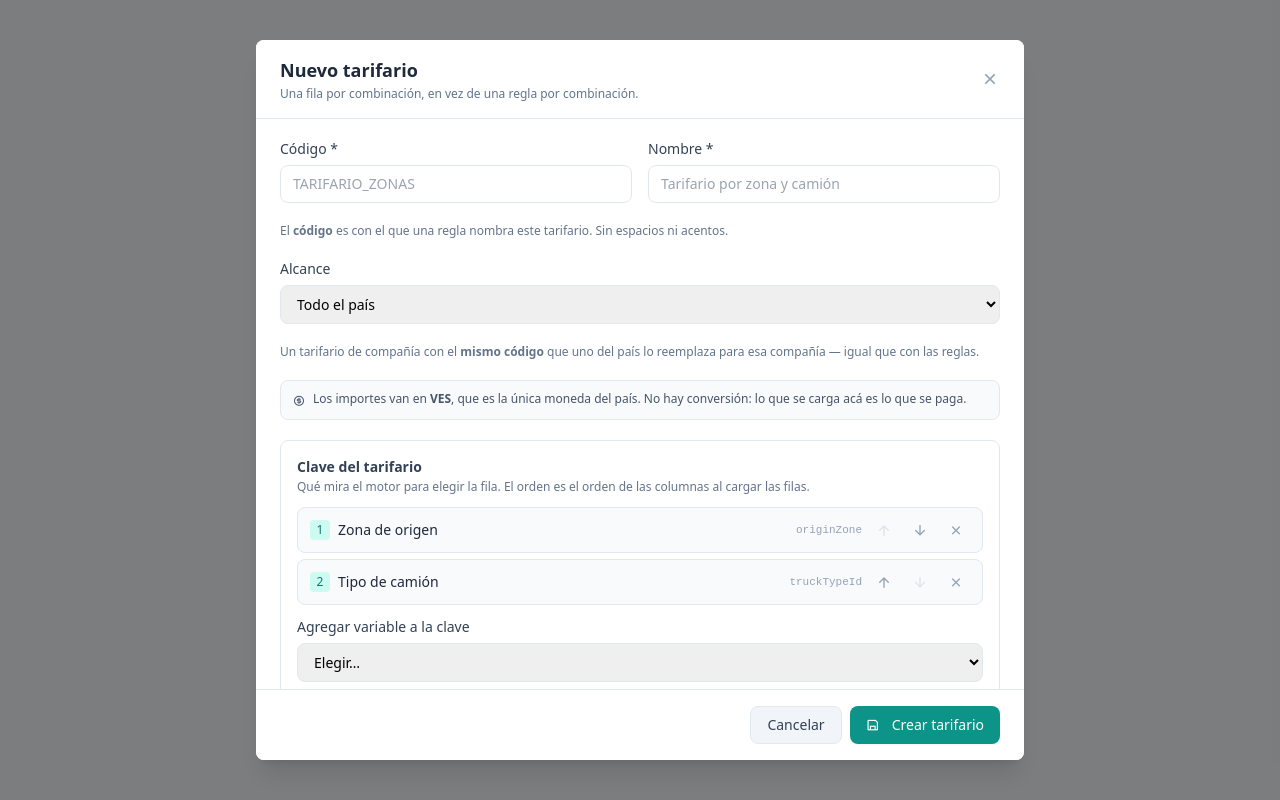
RateTableModal (caracterización) › con el formulario vacío no guarda y marca los errores
The width and height of the screenshot is (1280, 800).
Click the button "Crear tarifario" at (925, 725), box [850,706,1000,744]
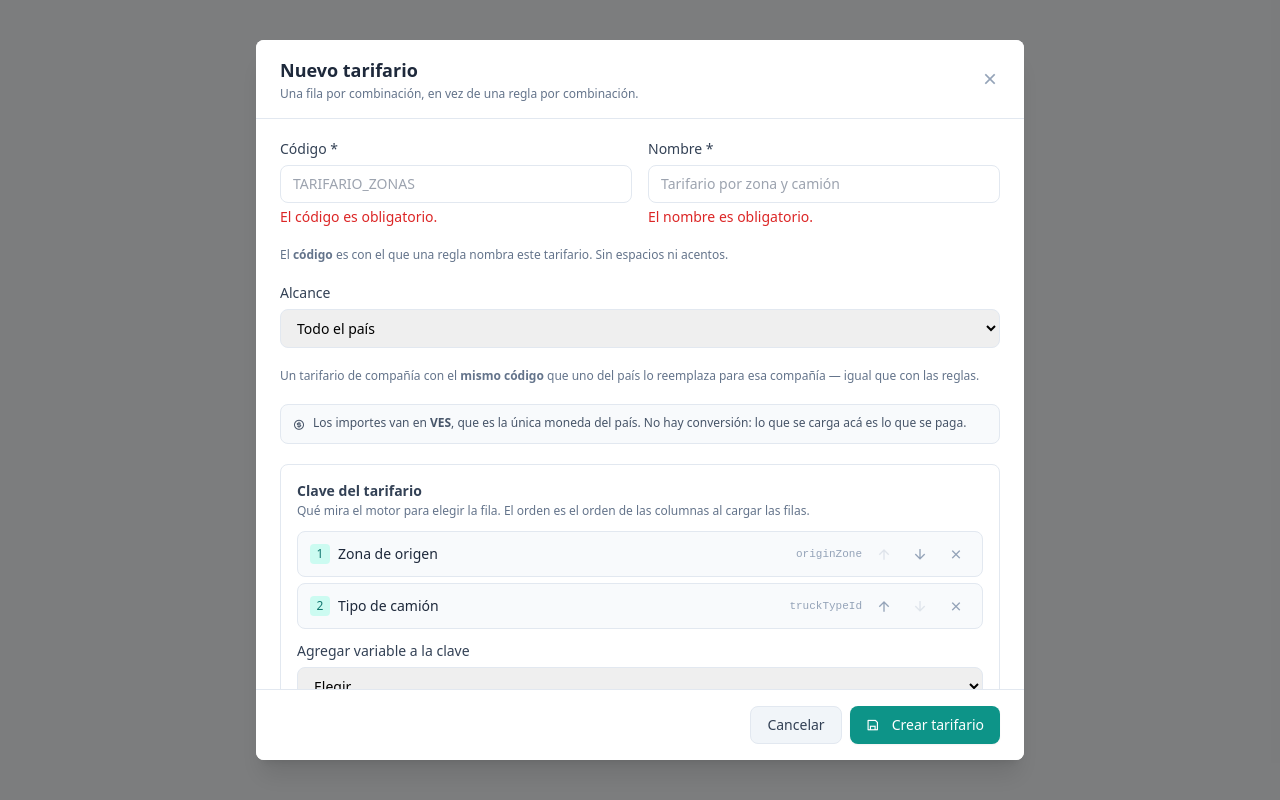
Expected: the text "El código es obligatorio." is shown, [280,207,437,226]
